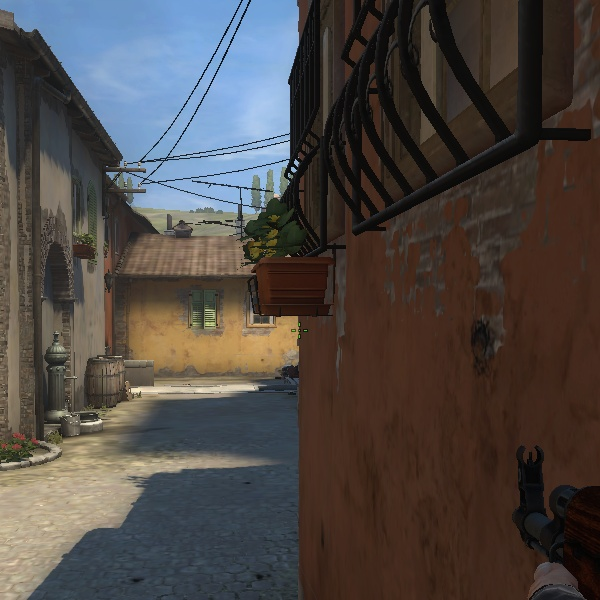t_body: (128, 0, 587, 597)
t_head: (284, 0, 573, 204)
